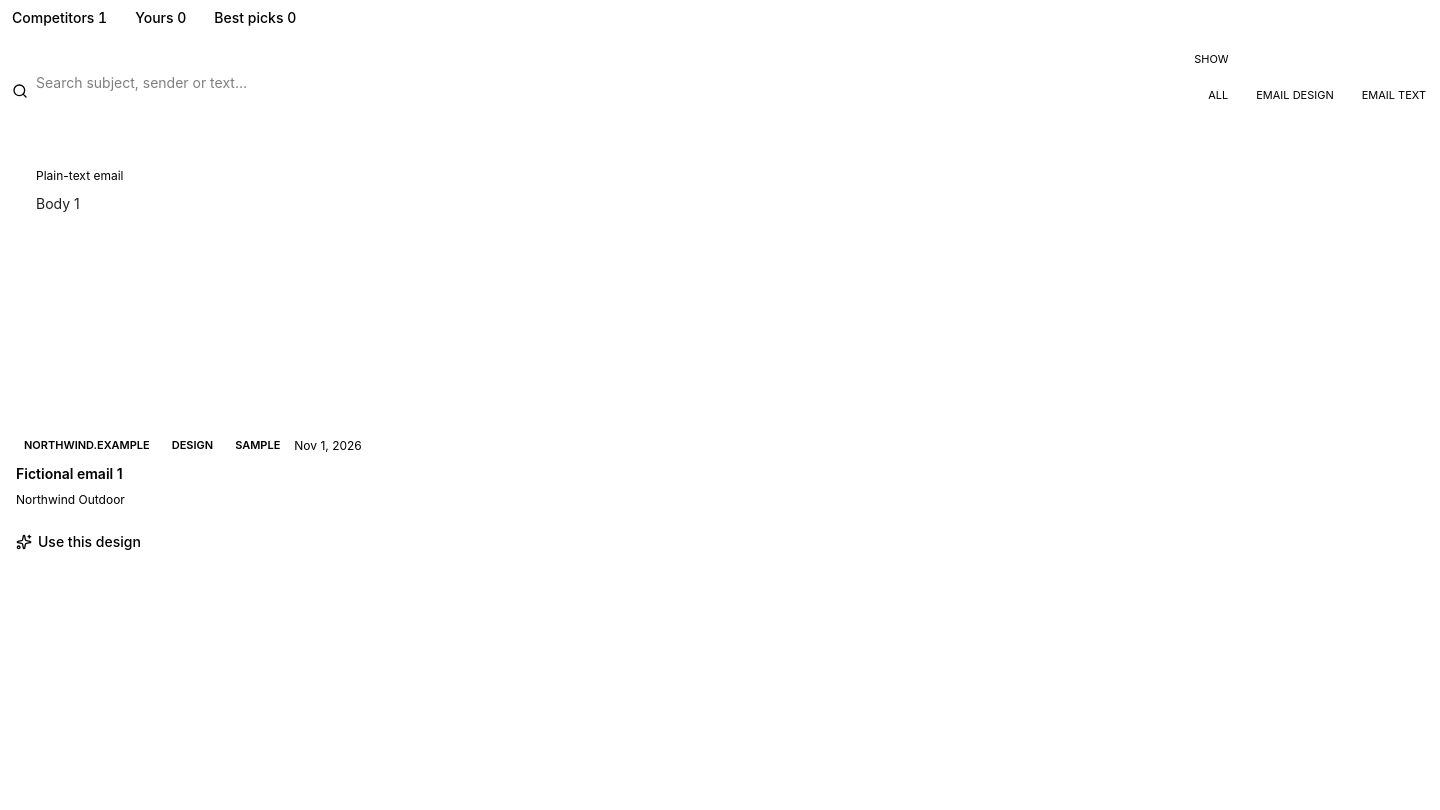
Scenario: ReferenceLibrary › opens an in-page preview and links "Use this design" to a new draft
The width and height of the screenshot is (1440, 810).
Step 1. Click the button named "Open the preview" → (87, 445), box [0,420,1439,524]
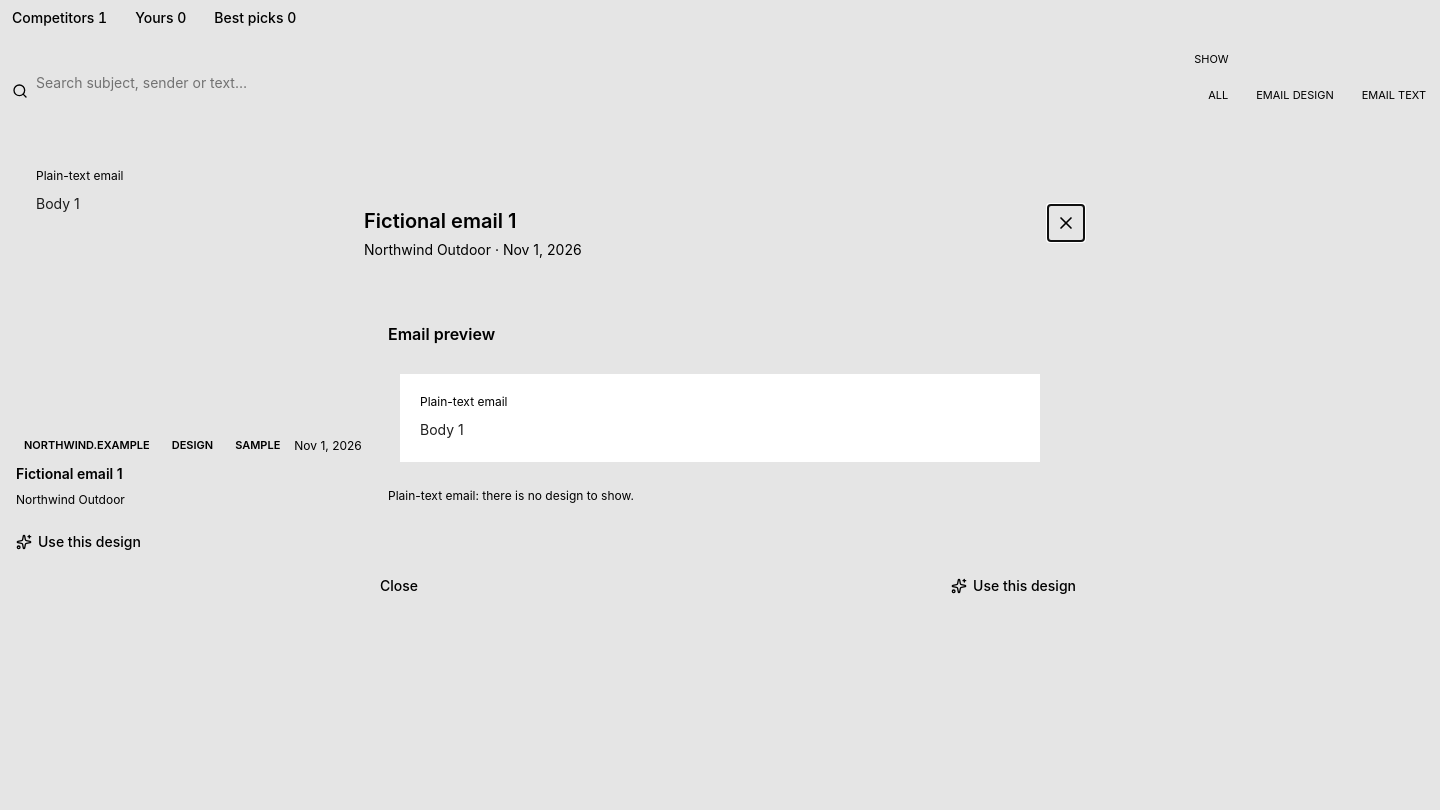
expect the text "Plain-text email" is shown: met, box [420,394,508,408]
expect the link "Use this design" is shown: met, box [951,568,1076,604]
